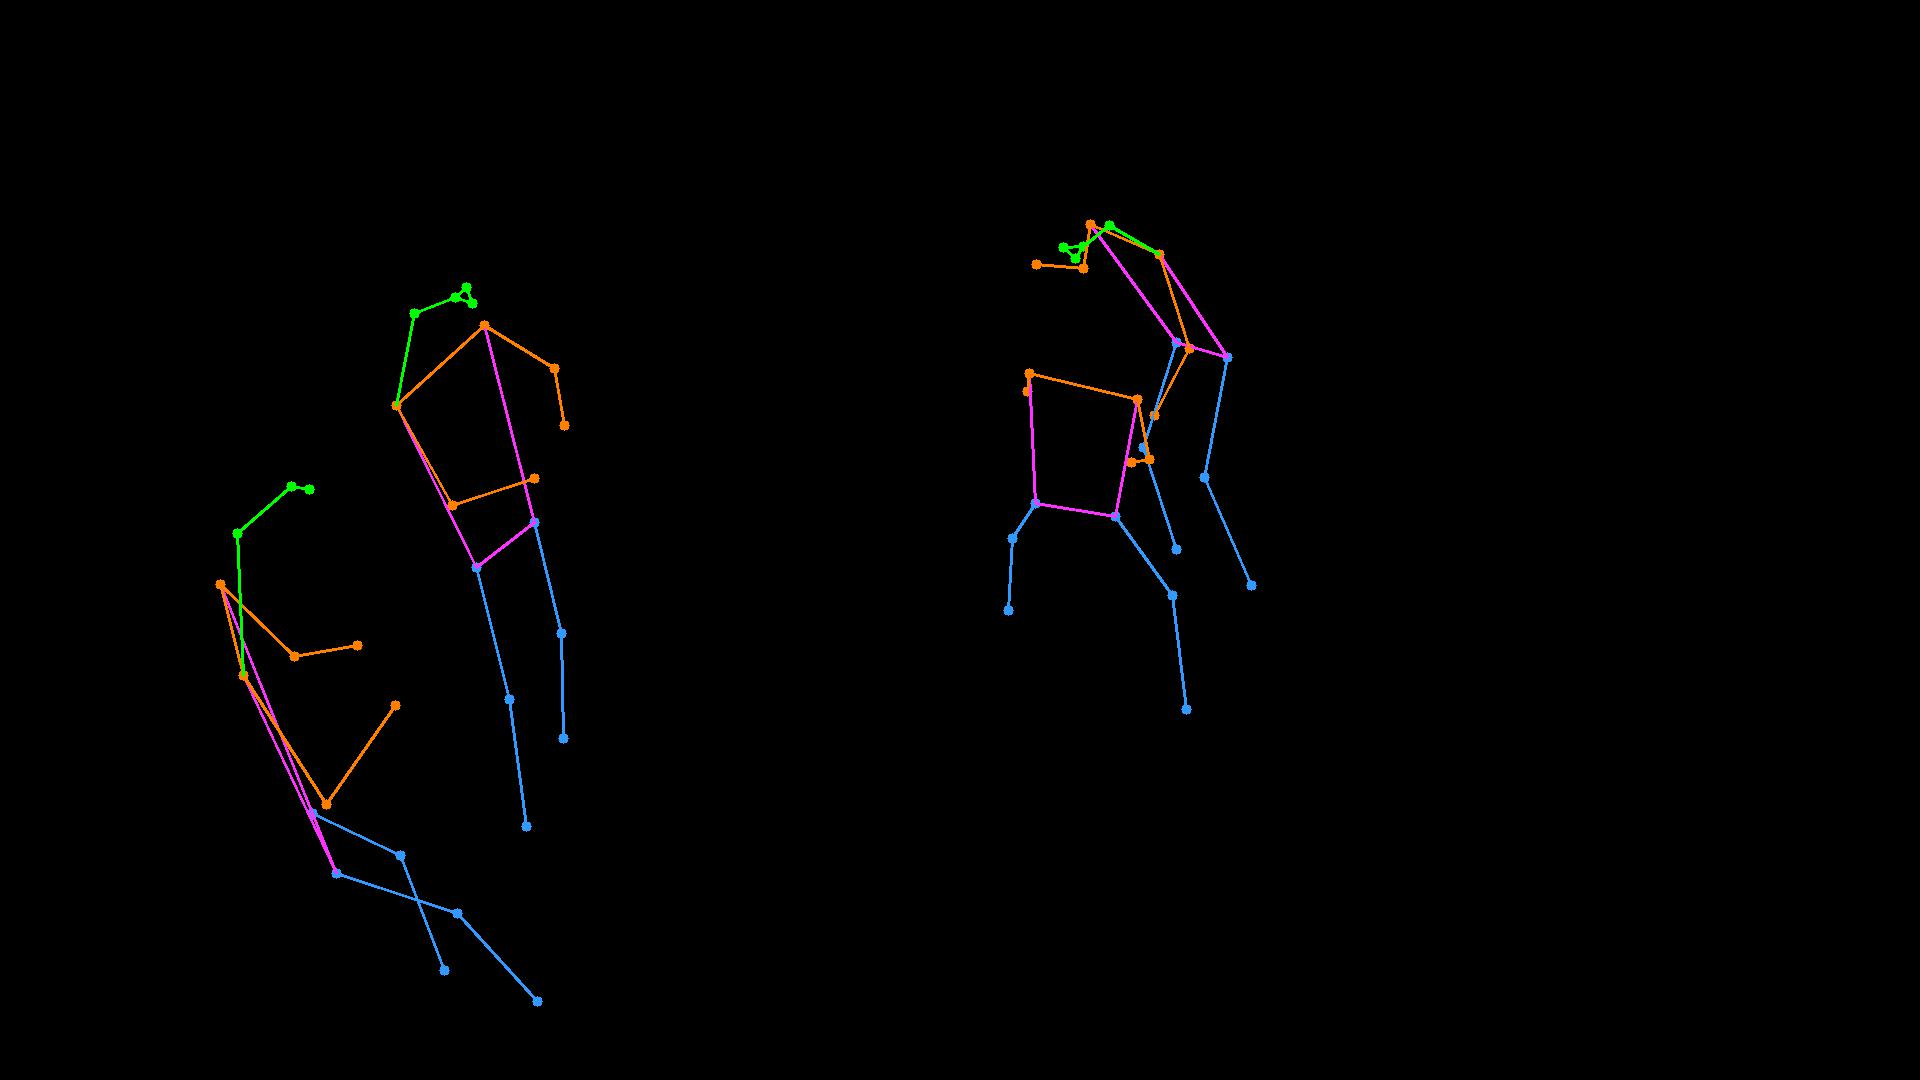normal: (175, 469, 580, 1033), (373, 262, 609, 843)
